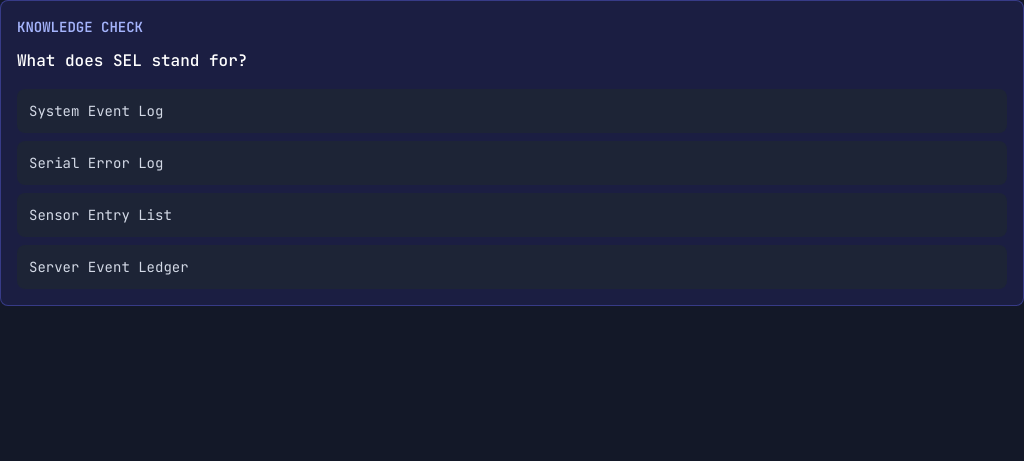
Scenario: InlineQuiz › should show correct feedback on right answer
Step 1. Click the button "System Event Log" → (96, 111), box [17,89,1007,133]
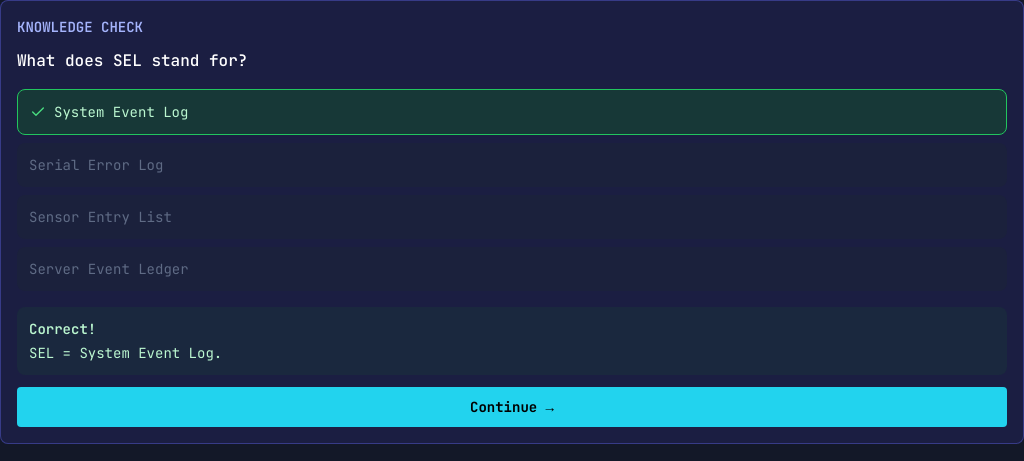
Expected: the text "Correct!" is shown, [29,320,96,338]
Expected: the text "SEL = System Event Log." is shown, [29,344,222,362]
